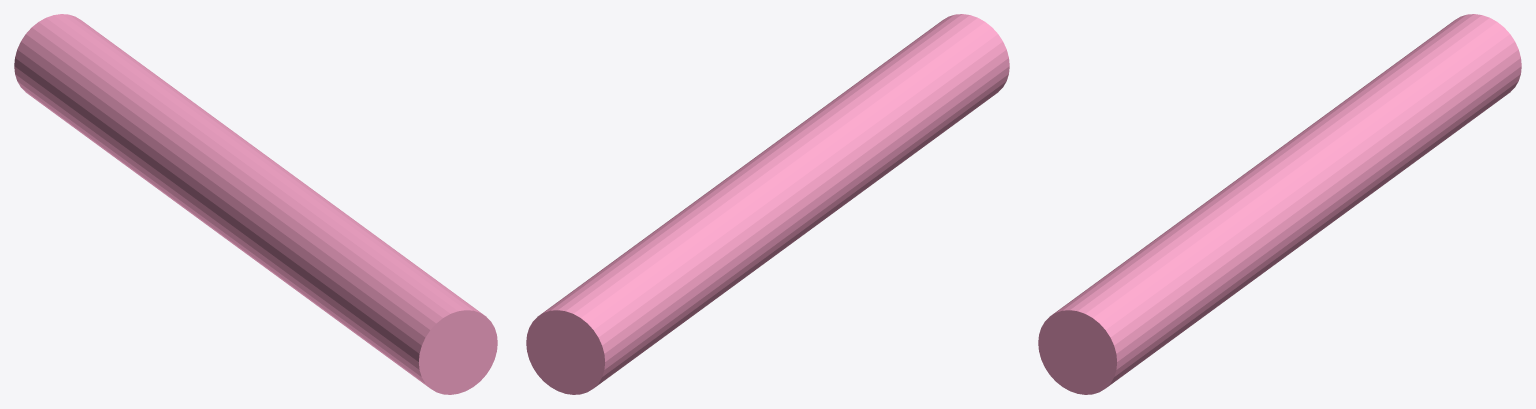
The picture shows the model from 3 angles, left to right: view 1: azimuth 30°, elevation 25°; view 2: azimuth 150°, elevation 25°; view 3: azimuth 330°, elevation 25°; orthographic projection.
Parts seen in each view (by area): view 1: /ambf/env/T16_T16_Cylinder.014; view 2: /ambf/env/T16_T16_Cylinder.014; view 3: /ambf/env/T16_T16_Cylinder.014.
Boxes of the visible parts, x1,y1,x2,y2 form: /ambf/env/T16_T16_Cylinder.014: (14, 14, 497, 394); /ambf/env/T16_T16_Cylinder.014: (526, 14, 1009, 394); /ambf/env/T16_T16_Cylinder.014: (1038, 14, 1521, 394).
Bounding box in the file's own units: 0.00475 × 0.00475 × 0.0422.
